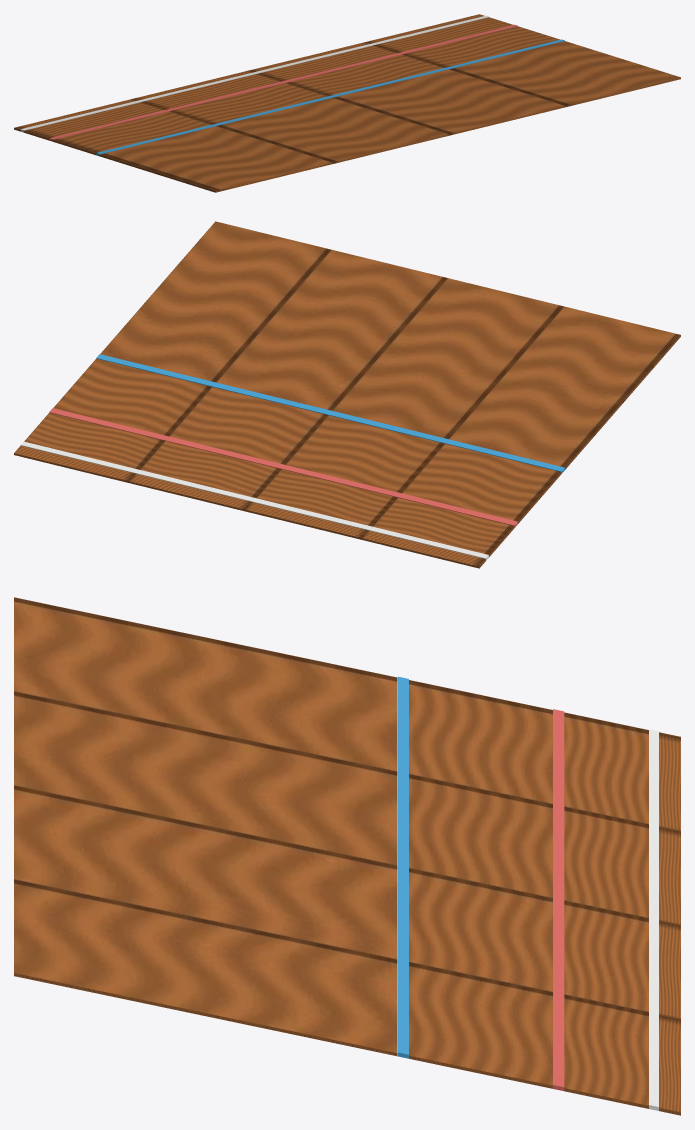
Rendered from velodrome-and-track-cycling-sprinters-and-stayers-line-01afe776__37981.glb.
3 views of the same model, one above another, from view 1: azimuth 30°, elevation 25°; view 2: azimuth 150°, elevation 25°; view 3: azimuth 270°, elevation 25° (orthographic). The views are drawn at different scales.
Parts seen in each view (by area): view 1: sprinters-and-stayers-line-plate-board, sprinters-and-stayers-line-plate-azure, sprinters-and-stayers-line-plate-red, sprinters-and-stayers-line-plate-chalk; view 2: sprinters-and-stayers-line-plate-board, sprinters-and-stayers-line-plate-red, sprinters-and-stayers-line-plate-azure, sprinters-and-stayers-line-plate-chalk; view 3: sprinters-and-stayers-line-plate-board, sprinters-and-stayers-line-plate-red, sprinters-and-stayers-line-plate-azure, sprinters-and-stayers-line-plate-chalk.
Boxes of the visible parts, <box> form: sprinters-and-stayers-line-plate-board: <box>14,14,680,192</box>; sprinters-and-stayers-line-plate-azure: <box>96,39,564,156</box>; sprinters-and-stayers-line-plate-red: <box>49,24,517,141</box>; sprinters-and-stayers-line-plate-chalk: <box>20,15,488,132</box>; sprinters-and-stayers-line-plate-board: <box>14,221,680,568</box>; sprinters-and-stayers-line-plate-red: <box>49,408,517,527</box>; sprinters-and-stayers-line-plate-azure: <box>96,354,564,473</box>; sprinters-and-stayers-line-plate-chalk: <box>20,441,488,560</box>; sprinters-and-stayers-line-plate-board: <box>14,597,680,1115</box>; sprinters-and-stayers-line-plate-red: <box>553,709,564,1090</box>; sprinters-and-stayers-line-plate-azure: <box>397,676,408,1058</box>; sprinters-and-stayers-line-plate-chalk: <box>649,729,658,1110</box>.
Bounding box in the file's own units: 8 × 1.42 × 6.
4 materials, 1 textured.
